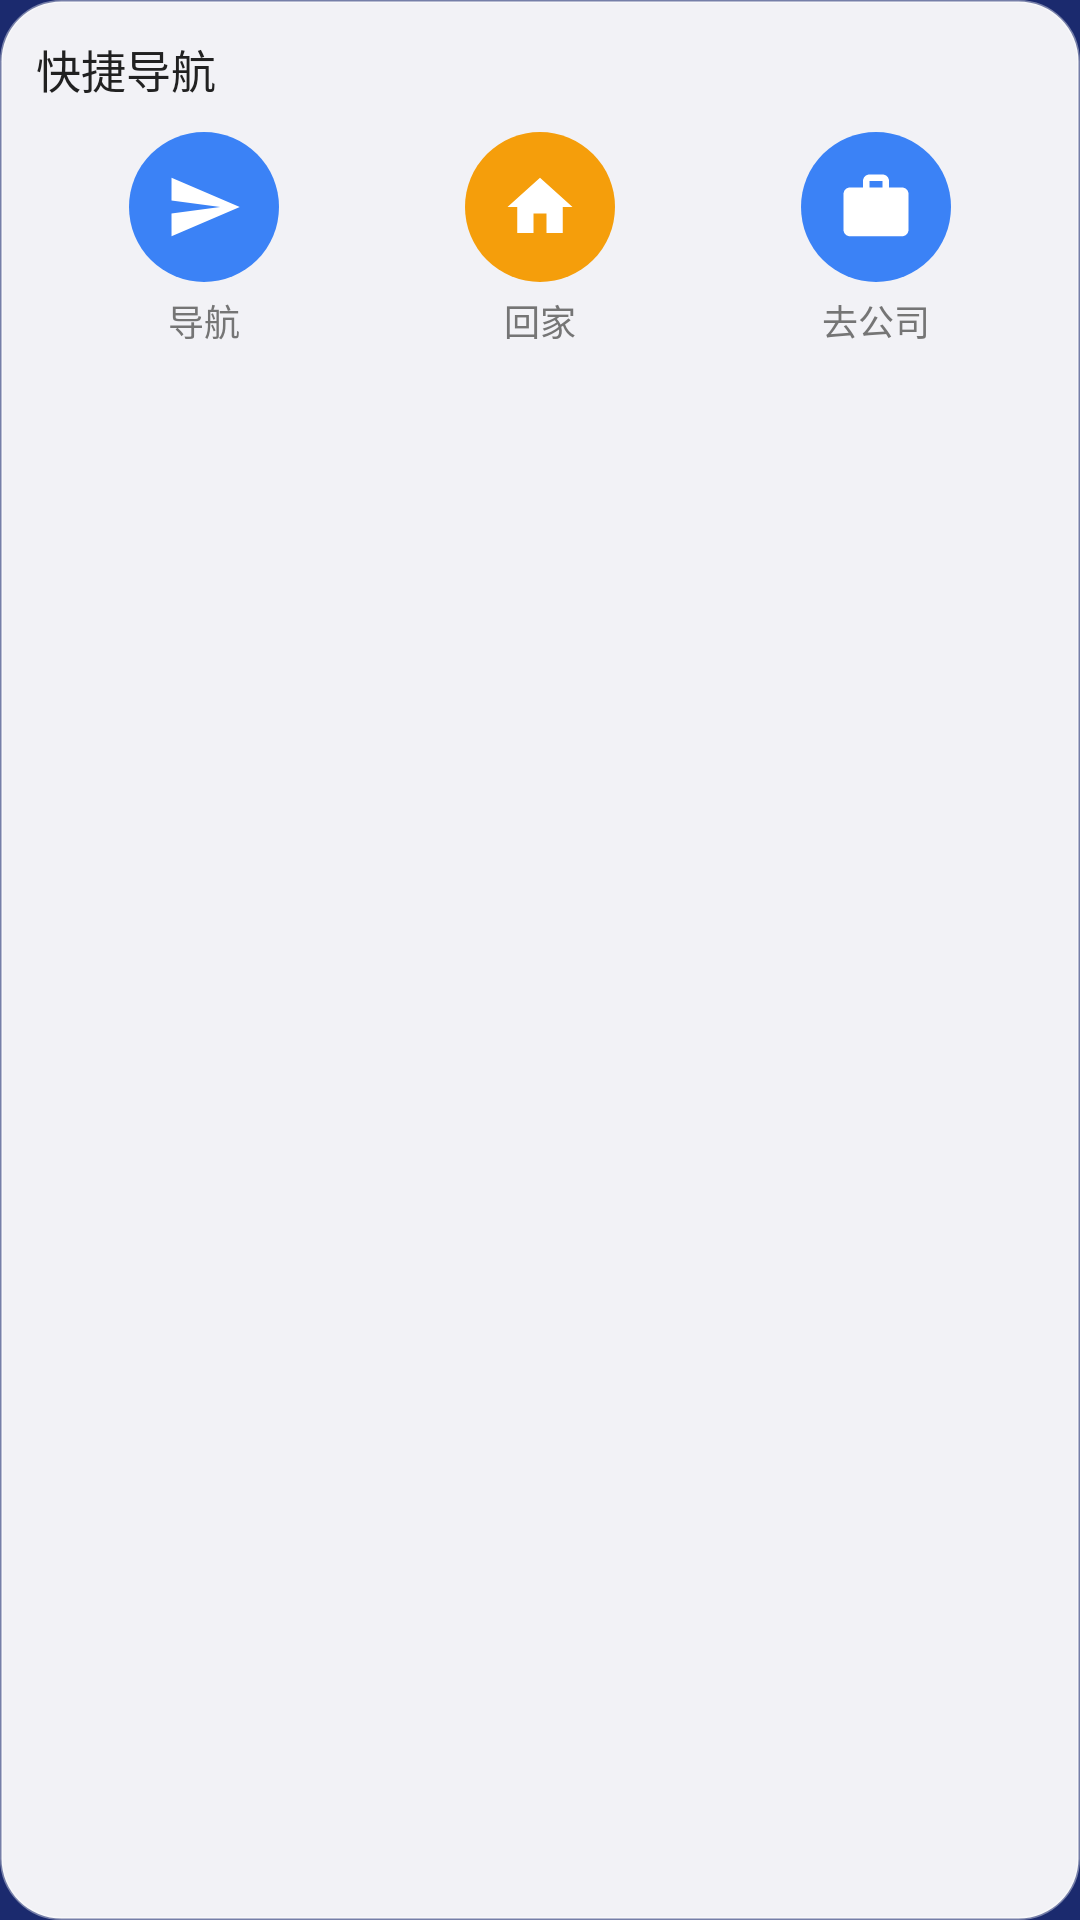

Where to tap for icons on this 1080px x 1920px app screen, as (x,y):
briefcase: (876,207)
